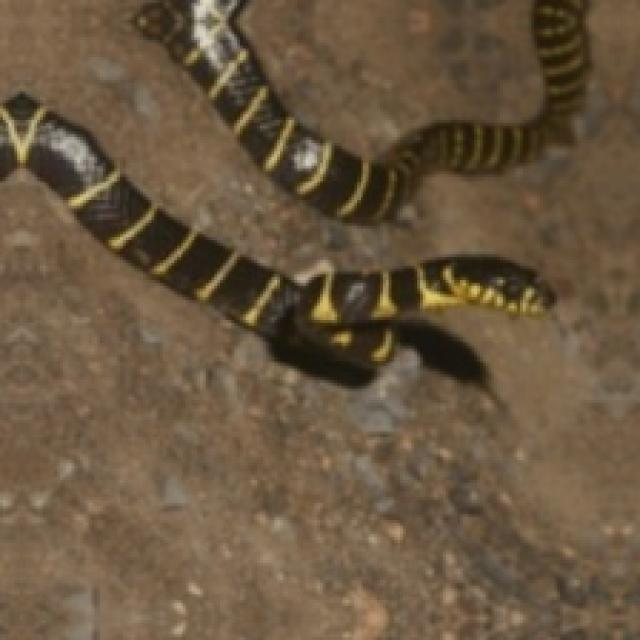mangrove cat snake: (0, 94, 551, 374), (134, 0, 589, 220)
